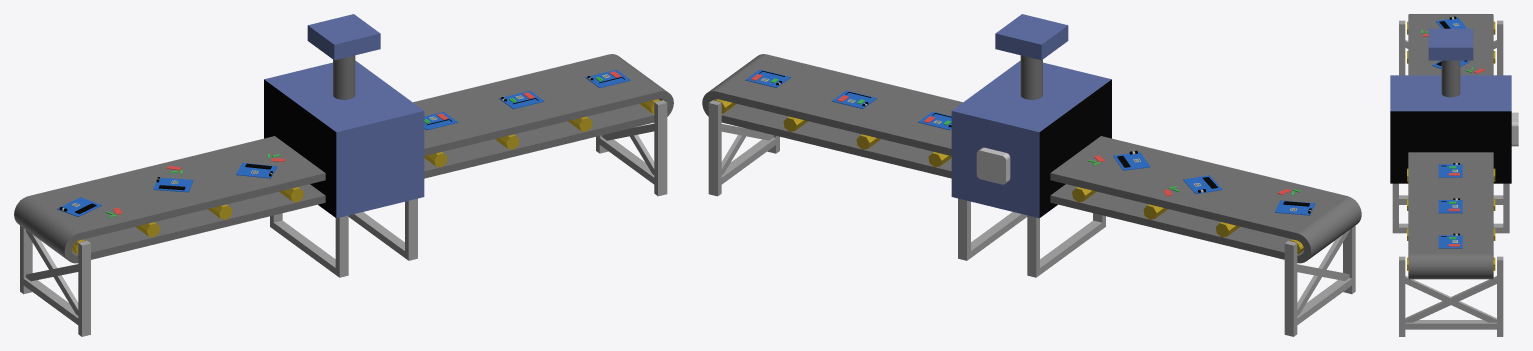
The model's file is accuracy2.glb.
3 views of the same model, side by side, from view 1: azimuth 30°, elevation 25°; view 2: azimuth 150°, elevation 25°; view 3: azimuth 270°, elevation 25° (orthographic). The views are drawn at different scales.
Visible parts, largest first — view 1: belt_start, machine, machine.002, foot3, foot3.001, press_cube, foot3.002, press_cylindre, foot2.002, foot3.003, foot2.005, board6 (+4 smaller); view 2: belt_start, machine, machine.002, foot3, foot3.001, press_cube, machine.004, foot3.002, press_cylindre, foot3.003, foot2.003, foot2.006 (+5 smaller); view 3: belt_start, machine.001, machine, foot3.001, press_cube, foot3, press_cylindre, board2, board1, foot2.006, board3, foot2.005 (+4 smaller).
Part boxes in pixels (x1,y1,x2,y2): belt_start: (14, 54, 673, 263); machine: (264, 60, 424, 218); machine.002: (264, 79, 336, 217); foot3: (20, 200, 90, 336); foot3.001: (596, 100, 667, 196); press_cube: (307, 14, 380, 60); foot3.002: (273, 220, 335, 274); press_cylindre: (333, 55, 355, 99); foot2.002: (335, 215, 348, 277); foot3.003: (348, 212, 404, 257); foot2.005: (405, 198, 417, 260); board6: (153, 177, 193, 192); belt_start: (702, 54, 1361, 263); machine: (951, 60, 1111, 218); machine.002: (1039, 79, 1111, 217); foot3: (1284, 200, 1355, 336); foot3.001: (708, 100, 779, 196); press_cube: (995, 14, 1068, 60); machine.004: (976, 147, 1010, 184); foot3.002: (1040, 220, 1102, 274); press_cylindre: (1020, 55, 1042, 99); foot3.003: (971, 212, 1027, 257); foot2.003: (1027, 215, 1039, 277); foot2.006: (958, 198, 970, 260); belt_start: (1407, 14, 1495, 279); machine.001: (1390, 111, 1511, 183); machine: (1390, 75, 1511, 111); foot3.001: (1399, 256, 1503, 336); press_cube: (1428, 28, 1473, 60); foot3: (1399, 20, 1503, 75); press_cylindre: (1441, 60, 1460, 97); board2: (1438, 198, 1462, 213); board1: (1438, 233, 1462, 248); foot2.006: (1503, 183, 1509, 233); board3: (1438, 163, 1462, 177); foot2.005: (1392, 183, 1398, 233).
Size of the model in its own units: 8.46 by 2.83 by 1.84.
